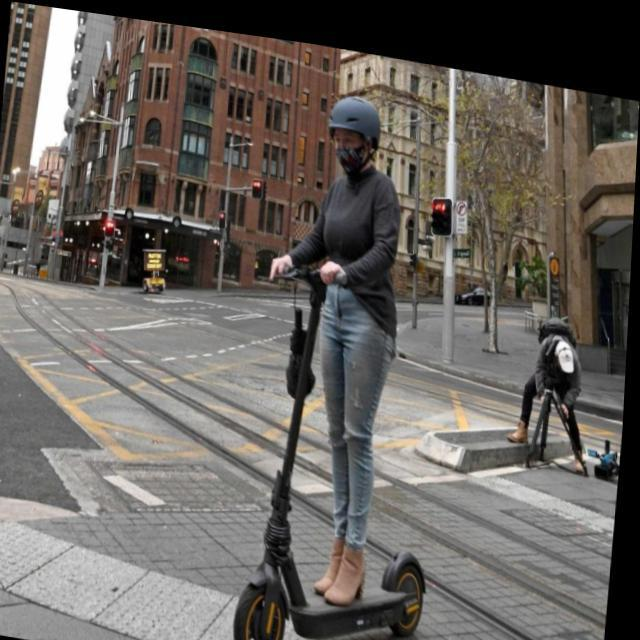Helmet: (320, 84, 390, 184)
